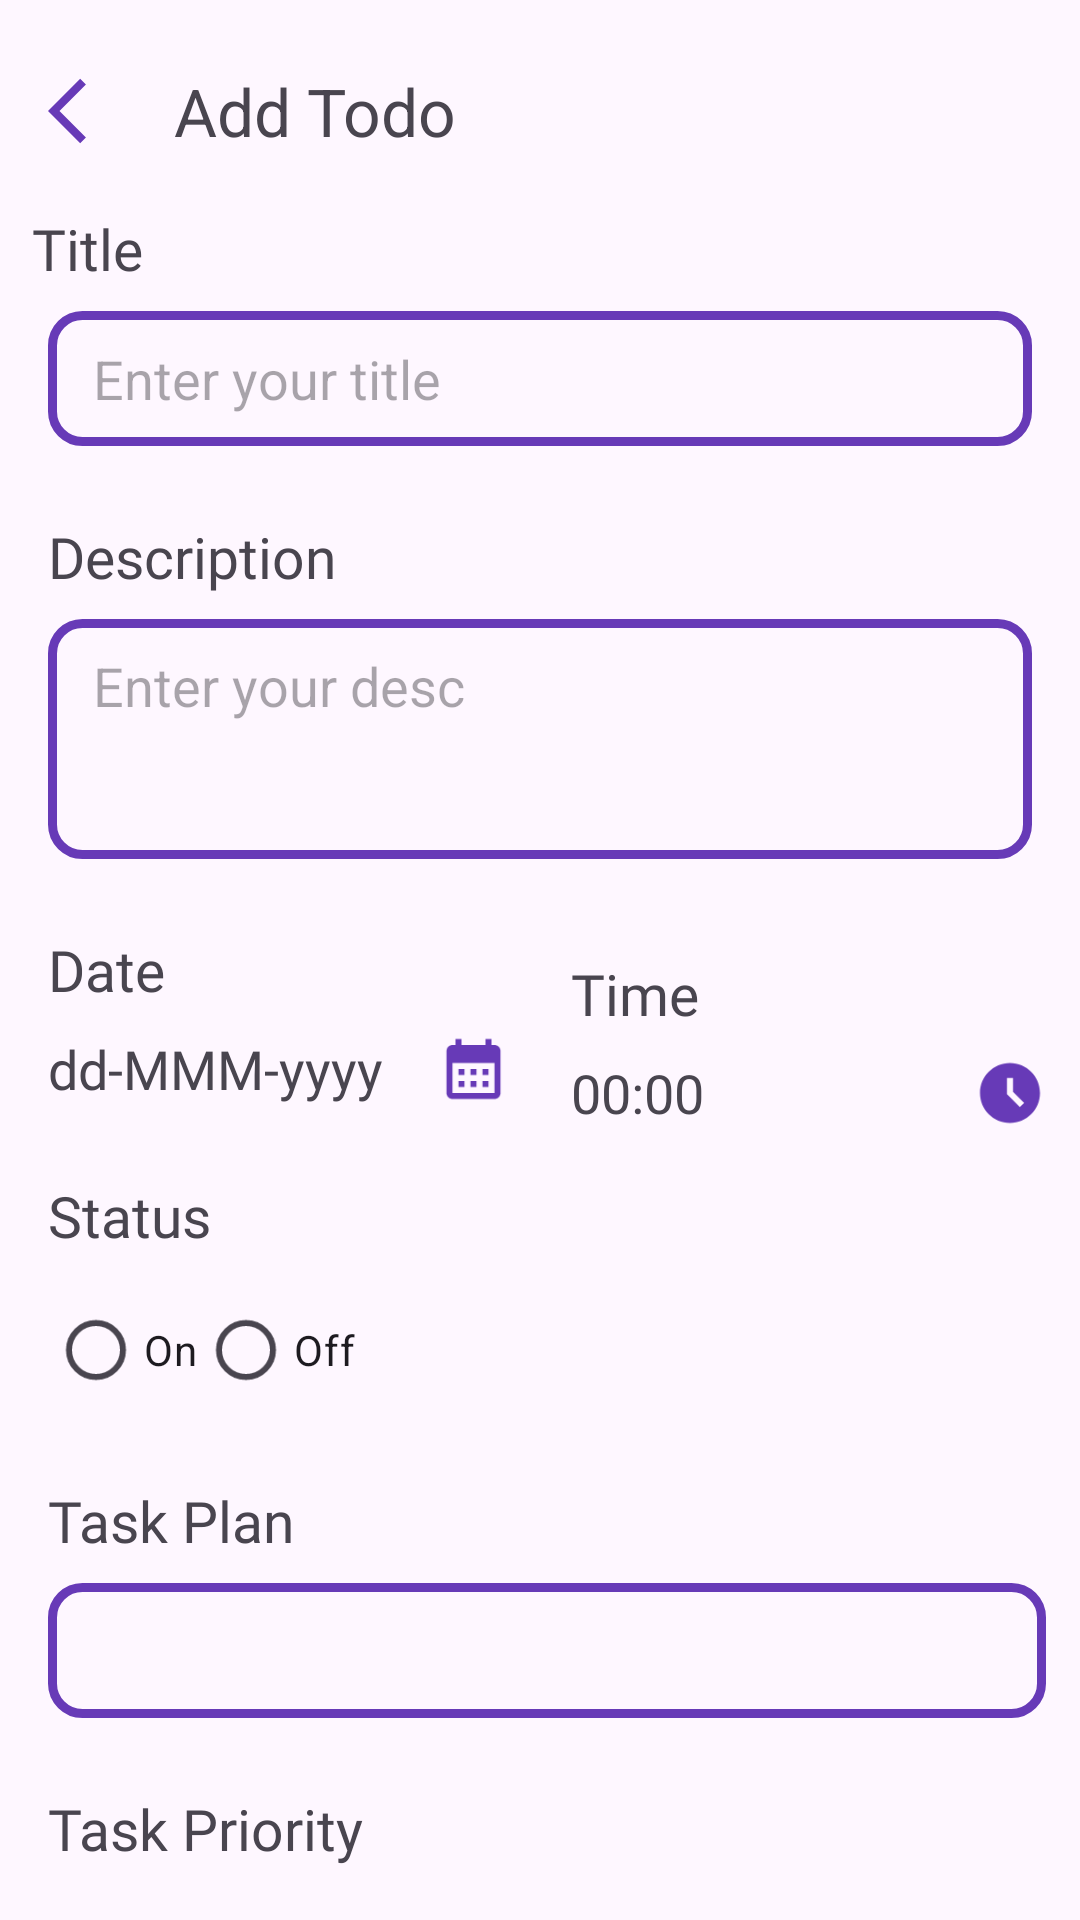

Where to tap for icons on this 1080x1920 app screen, as (x=x, y=y):
back: (x=67, y=111)
calendar: (x=473, y=1069)
time: (x=1010, y=1093)
